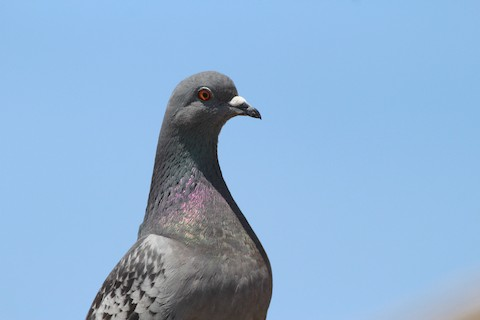pigeon: (82, 59, 279, 318)
